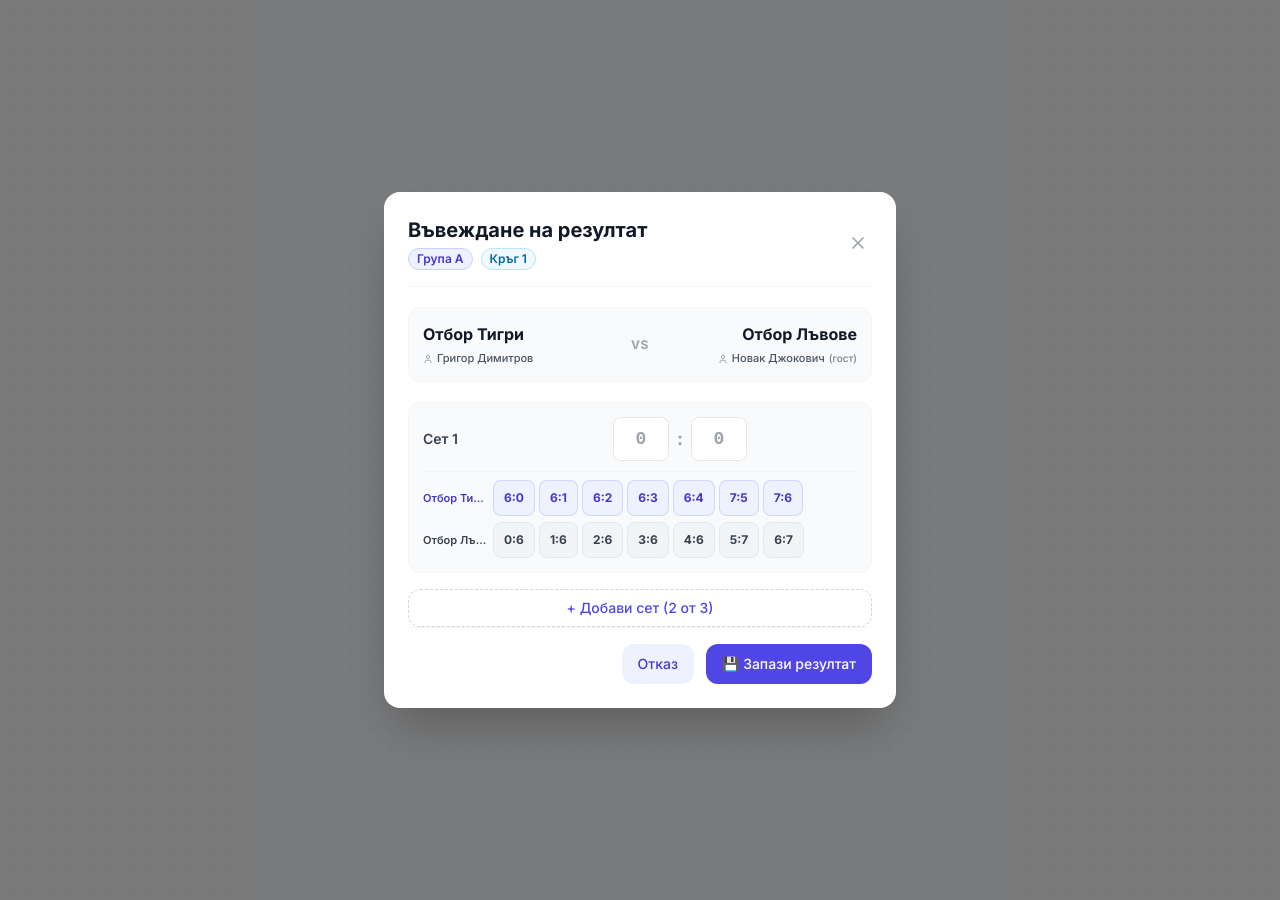
TournamentScoreModal Component › progressively adds Set 2 and Set 3 (deciding tiebreak when 1-1)
This screenshot has width=1280, height=900.
Click the button "+ Добави сет (2 от 3)" at (640, 608), box left=408, top=589, right=872, bottom=627
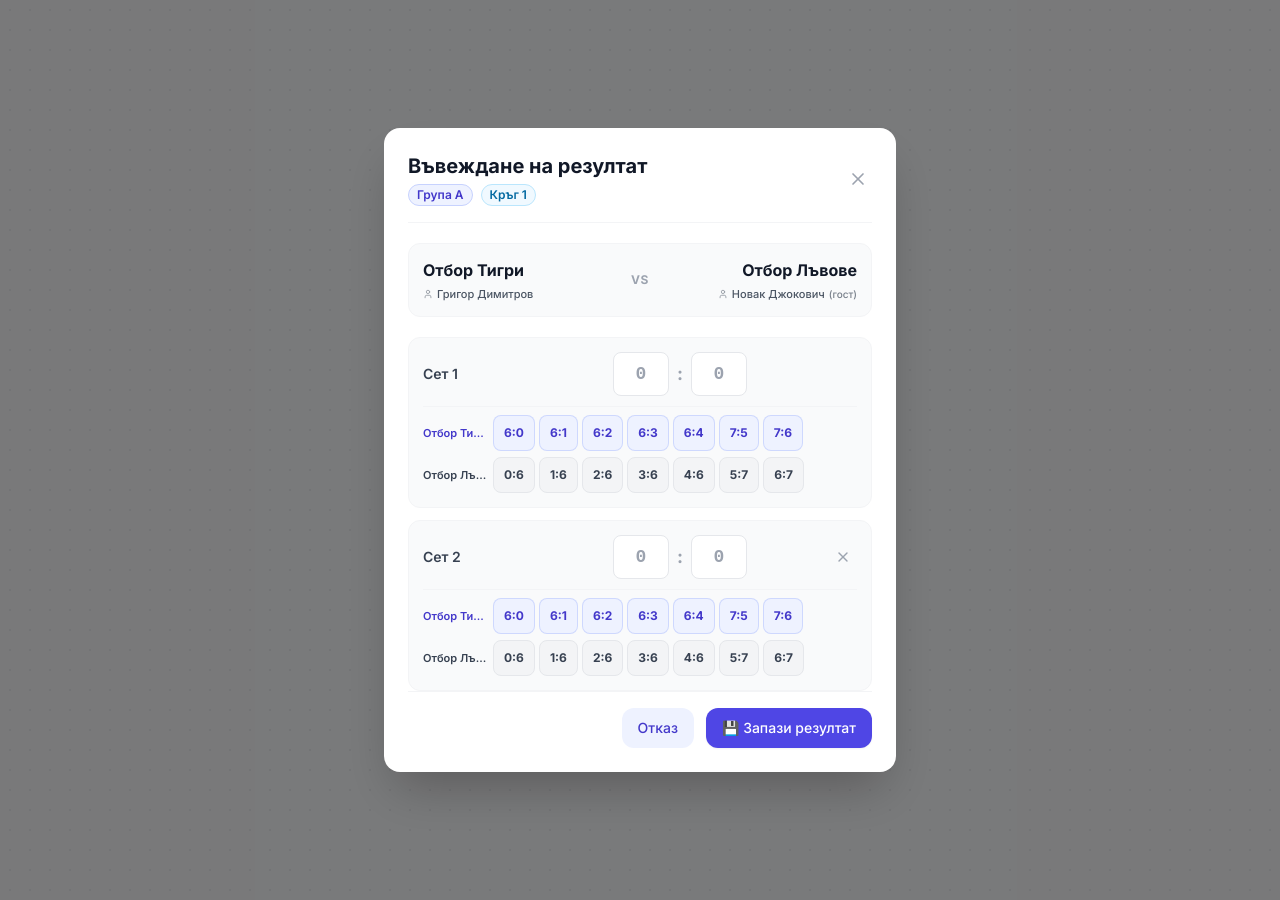
Now the text "Сет 2" is shown, box left=423, top=548, right=461, bottom=565
Now the button named "Премахни Сет 2" is shown, box left=829, top=543, right=857, bottom=571
Type "6" into the field named "Сет 1 Отбор 1" at (641, 374), box left=613, top=352, right=669, bottom=396
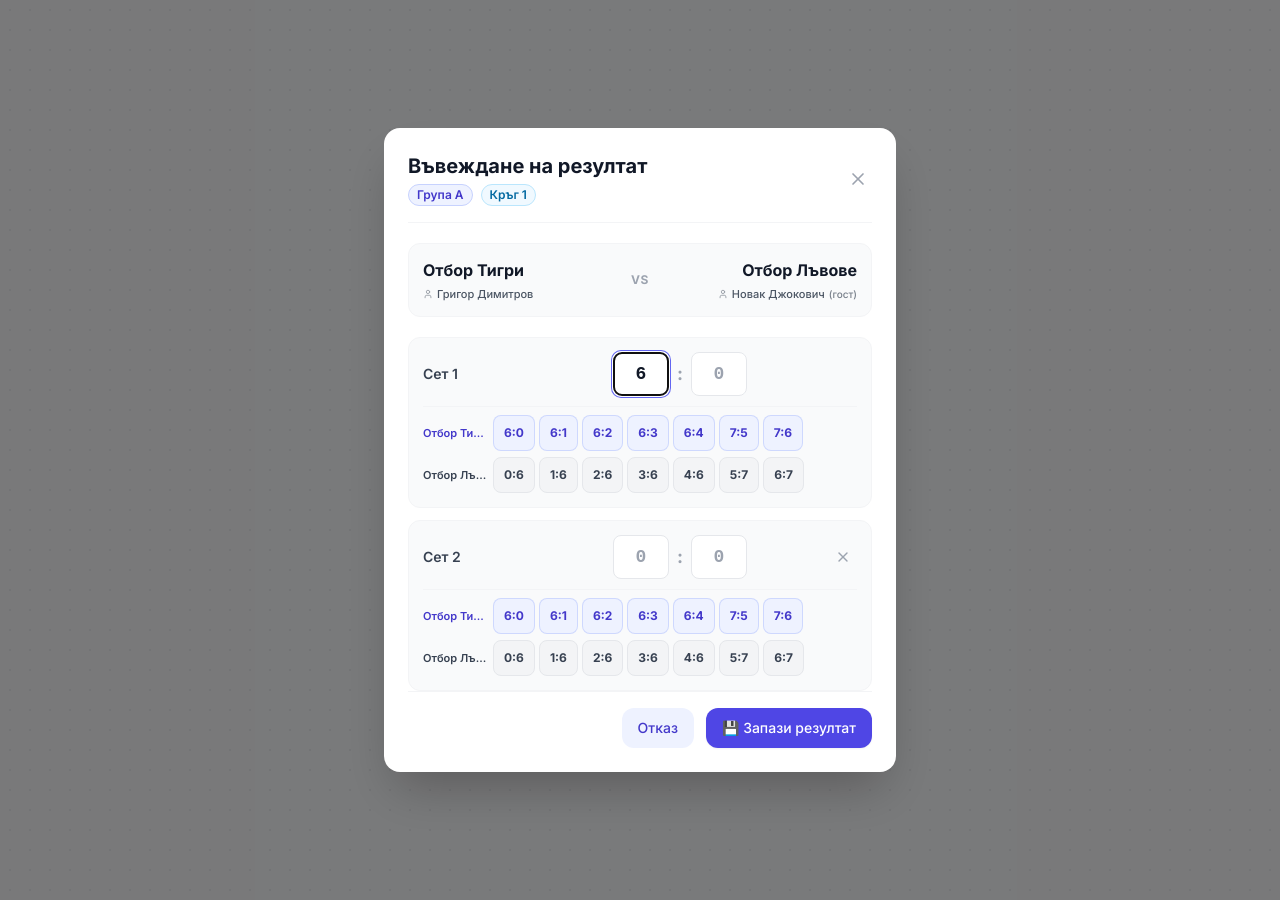
Type "4" into the field named "Сет 1 Отбор 2" at (719, 374), box left=691, top=352, right=747, bottom=396
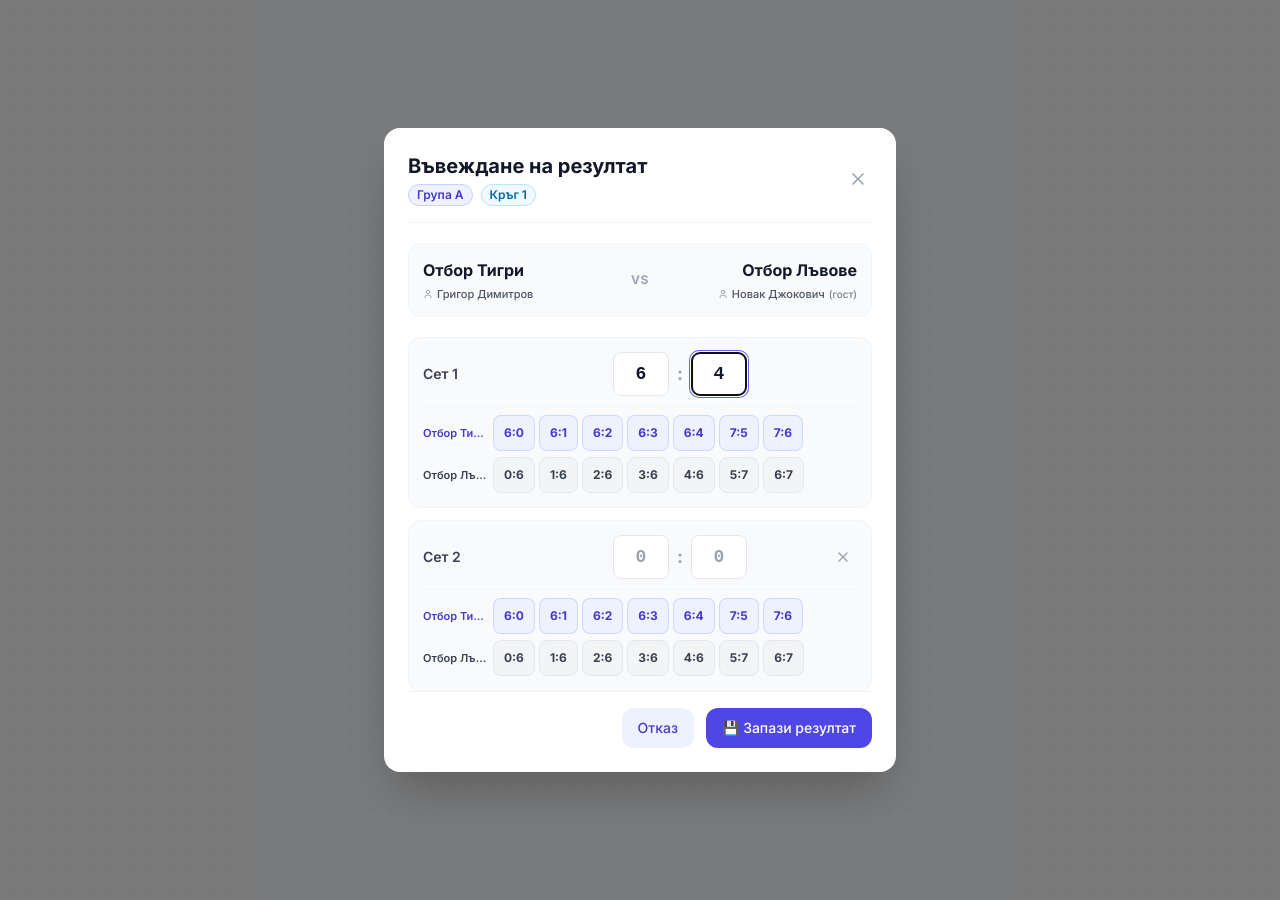
Type "4" into the field named "Сет 2 Отбор 1" at (641, 557), box left=613, top=535, right=669, bottom=579
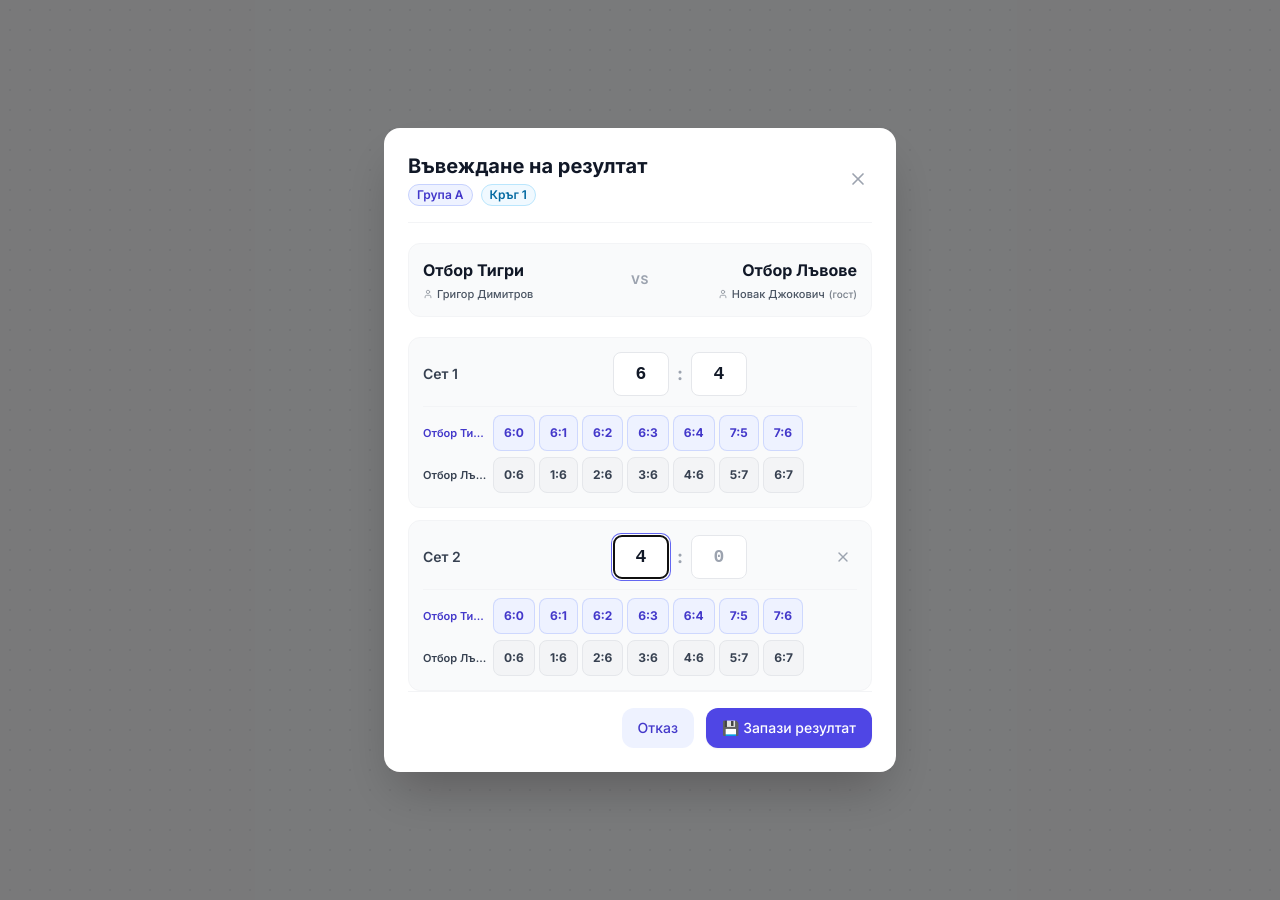
Type "6" into the field named "Сет 2 Отбор 2" at (719, 557), box left=691, top=535, right=747, bottom=579
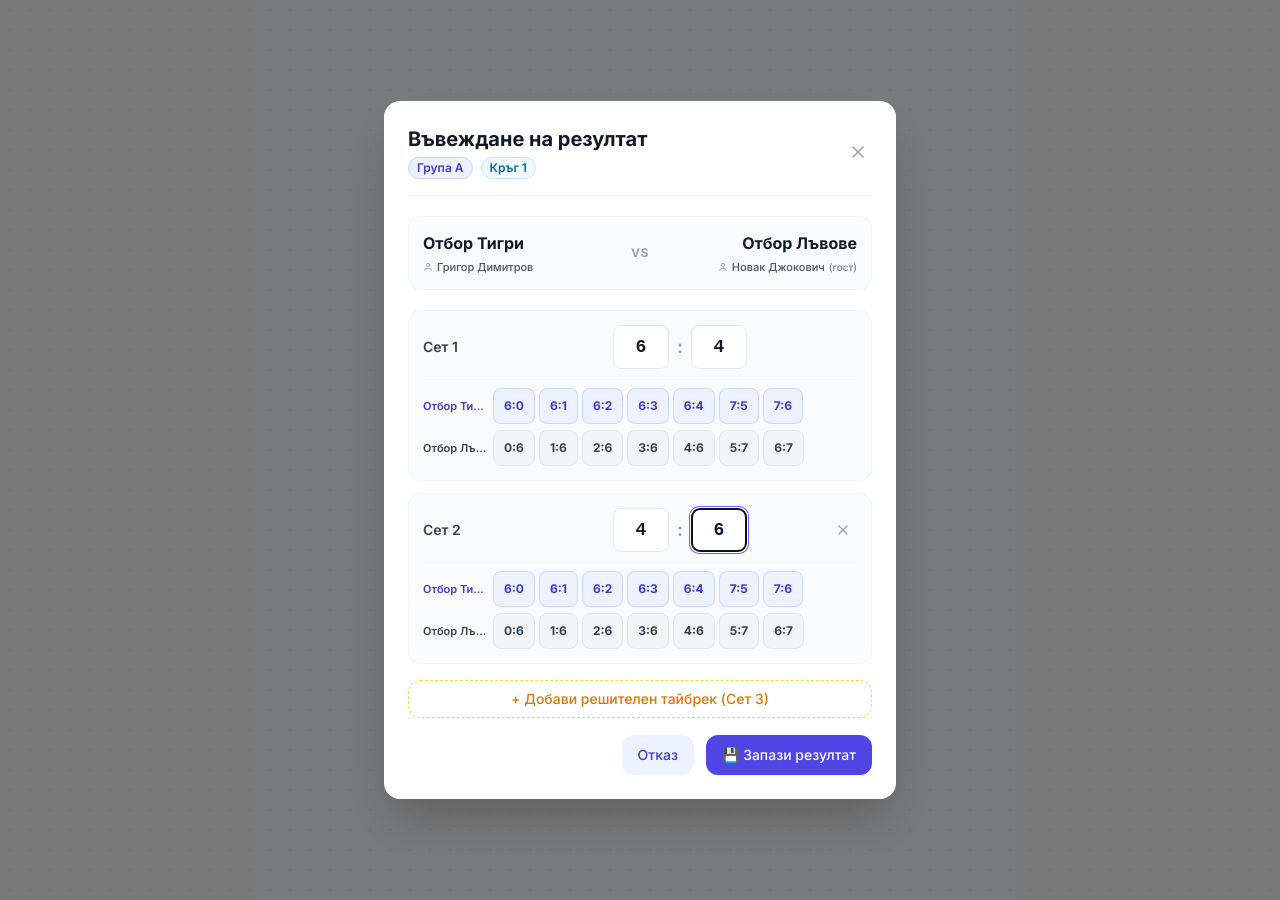
Now the button "+ Добави решителен тайбрек (Сет 3)" is shown
Click the button "+ Добави решителен тайбрек (Сет 3)" at (640, 699), box left=408, top=680, right=872, bottom=718
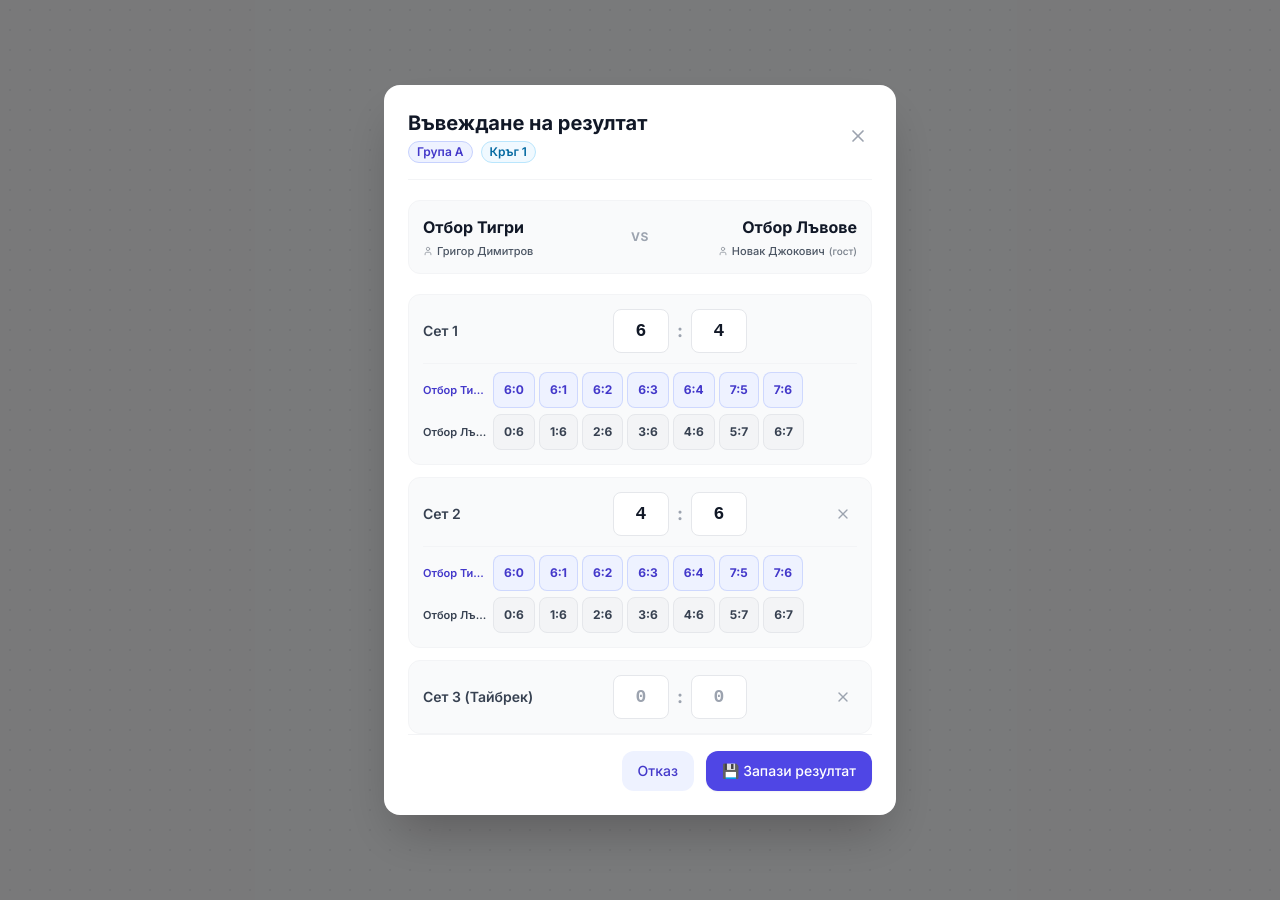
Now the text "Сет 3 (Тайбрек)" is shown, box left=423, top=687, right=535, bottom=707
Now the button named "Премахни Сет 3" is shown, box left=829, top=683, right=857, bottom=711
